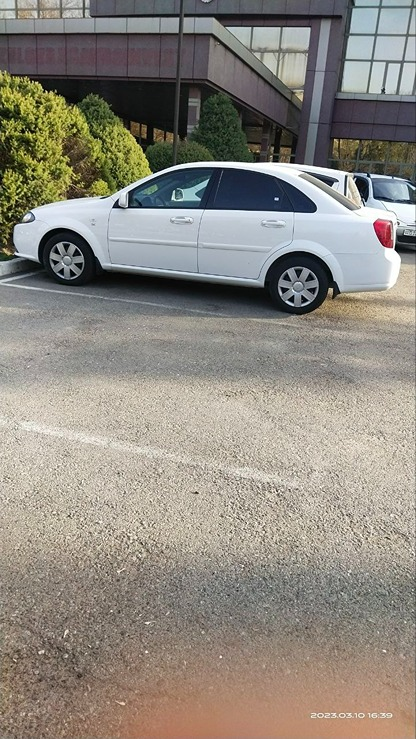car: (14, 167, 395, 340), (364, 181, 416, 249)
